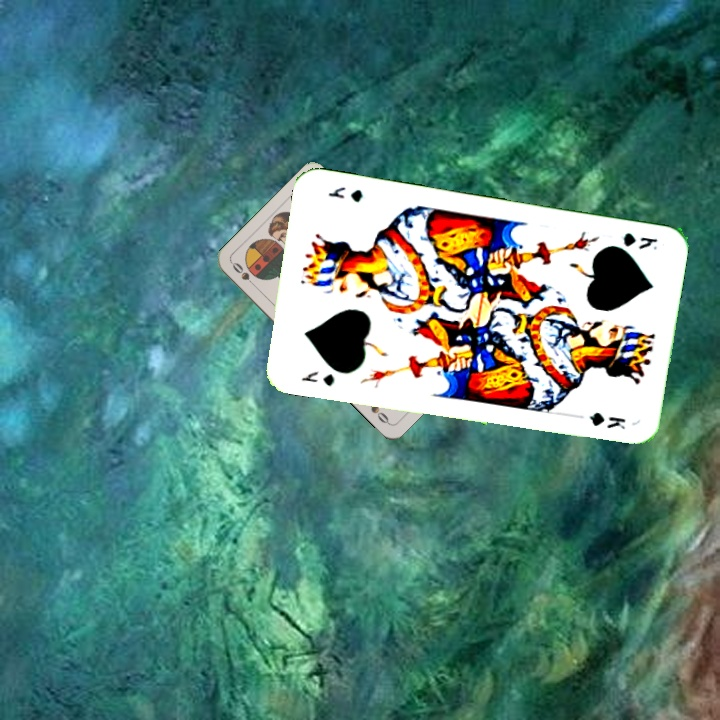GK: (619, 229, 660, 253), (297, 367, 337, 389)
SO: (228, 258, 260, 291)
